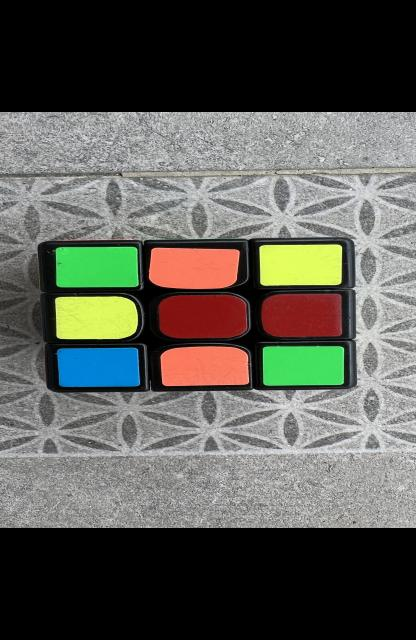Blue: (56, 348, 140, 387)
Green: (55, 247, 138, 288), (261, 346, 343, 386)
Orange: (148, 248, 238, 289), (160, 347, 248, 386)
Red: (158, 295, 246, 339), (260, 293, 341, 337)
Yellow: (55, 296, 138, 340), (258, 244, 341, 286)
